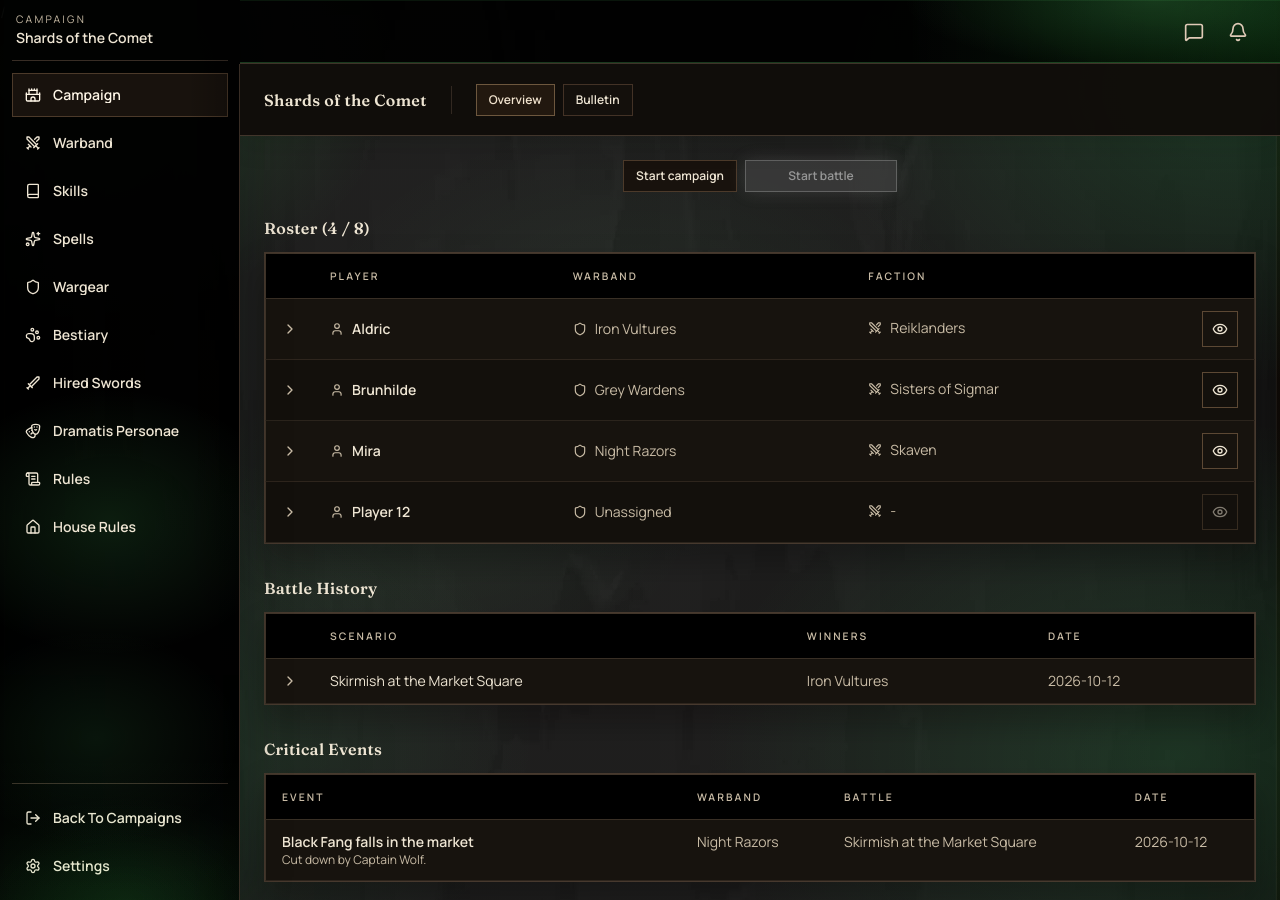
Scenario: Start campaign › is offered to the owner before the start, saying it enables battles and experience and locks nothing (BUG-77, decision 3)
Check: the heading "Roster (4 / 8)" is shown, box [264,218,370,238]
Check: the button "Aldric" is shown, box [330,319,390,339]
What coordinates should you click on to do the following:
click the button "Start campaign"
I would click on:
 (680, 176)
Its box is [623,160,737,192].
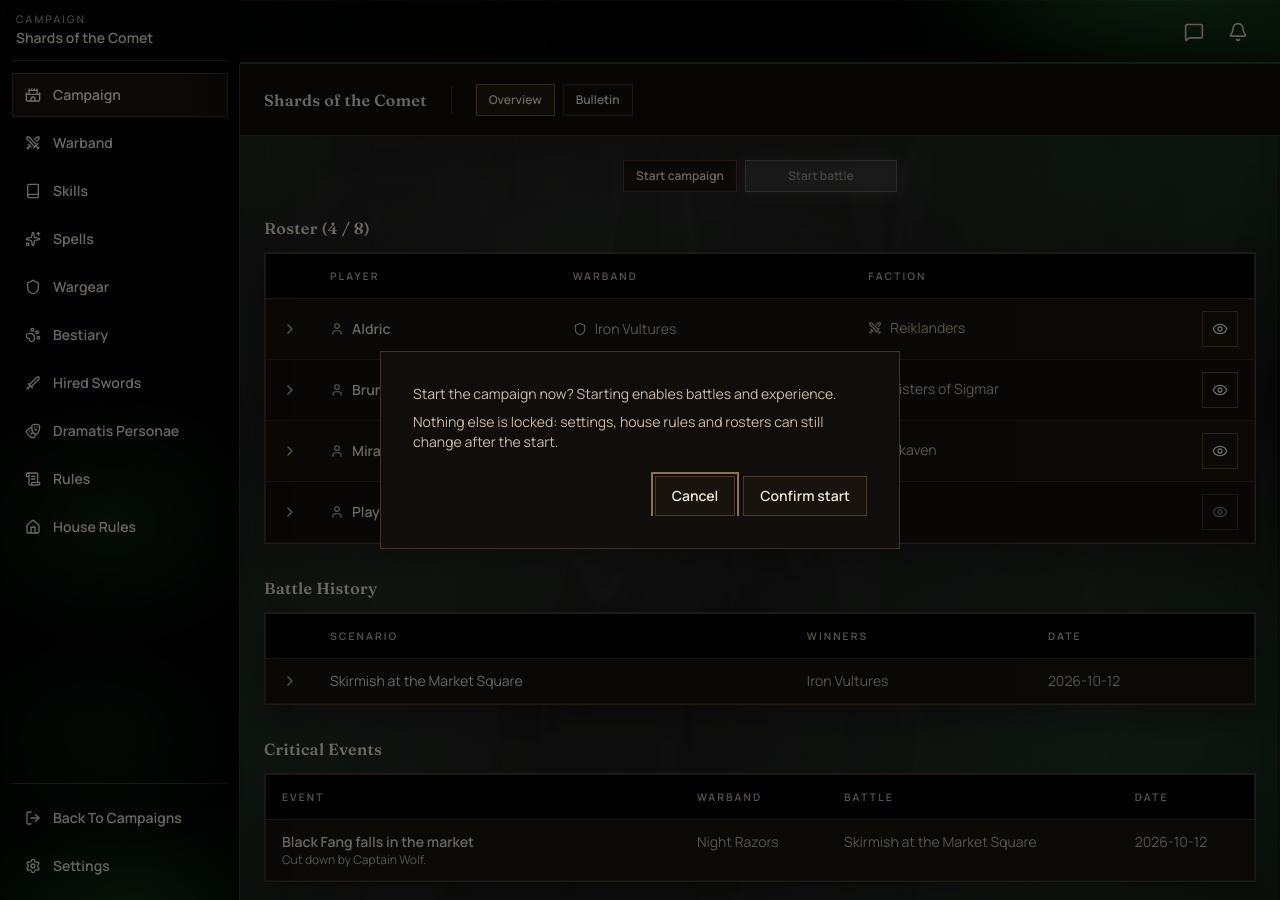
Check: the dialog named "Start campaign" shows "Start the campaign now? Starting enables battles and experience.", box [413,384,836,403]
Check: the dialog named "Start campaign" shows "Nothing else is locked: settings, house rules and rosters can still change after the start.", box [413,412,824,451]
Check: the button "Confirm start" is enabled, box [743,476,867,516]
